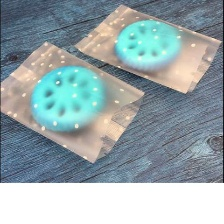snack: (0, 37, 150, 168), (66, 0, 223, 98)
